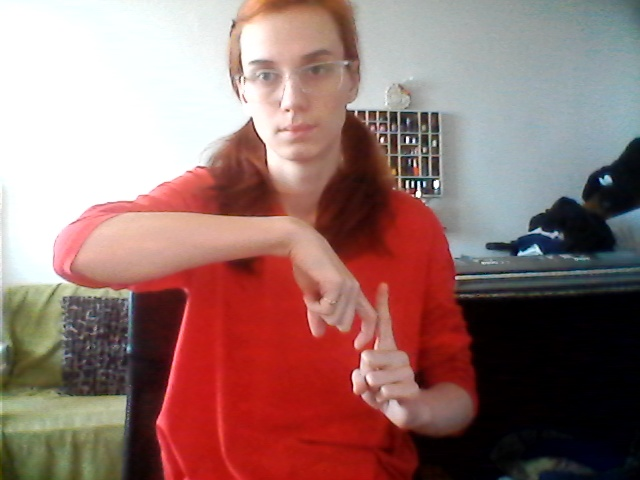k: (274, 215, 423, 432)
